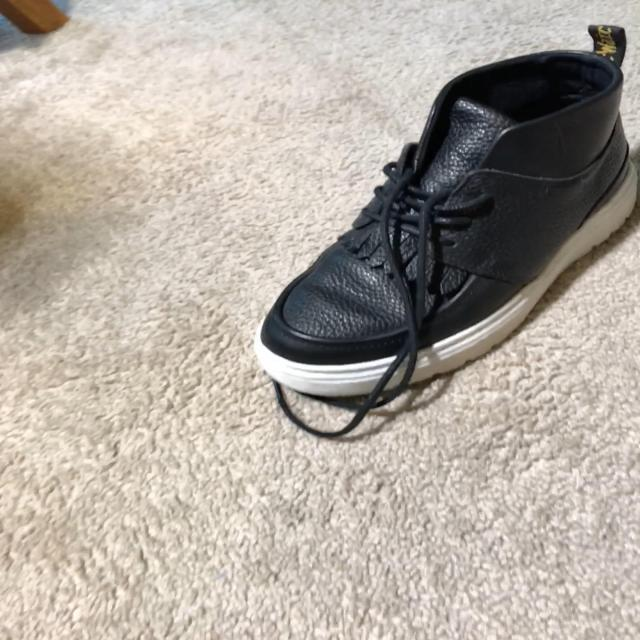shoe: (253, 51, 640, 444)
